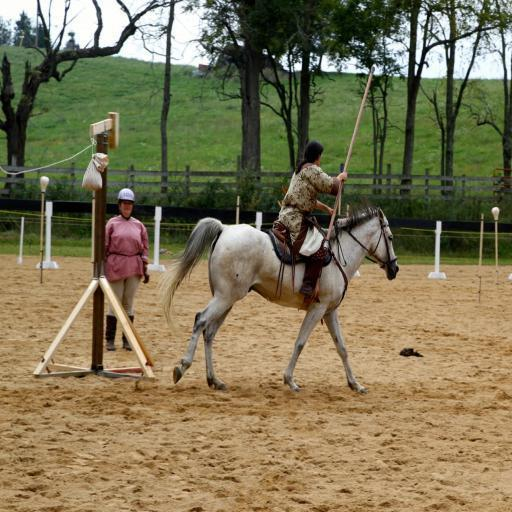horse: (154, 201, 402, 396)
